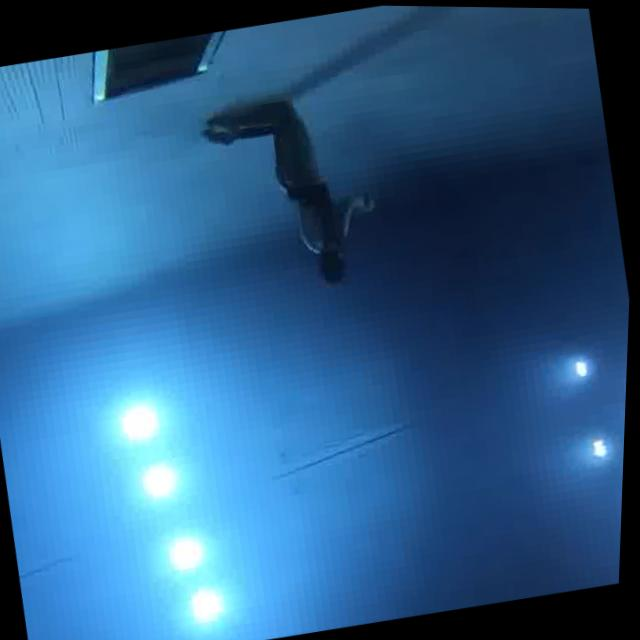human: (184, 73, 401, 304)
